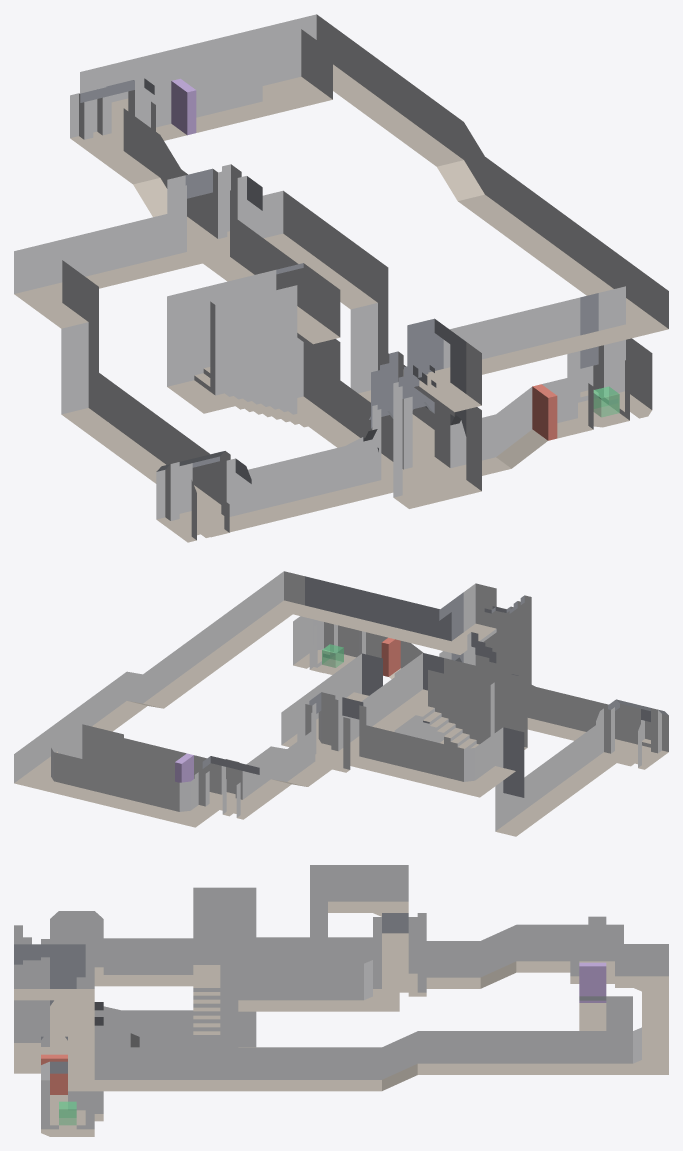
The model's file is deeplab_03.glb.
3 views of the same model, one above another, from view 1: azimuth 30°, elevation 25°; view 2: azimuth 150°, elevation 25°; view 3: azimuth 270°, elevation 25° (orthographic). The views are drawn at different scales.
Visible parts, largest first — view 1: corridor:8, room:6, corridor:6, corridor:7, room:1, corridor:2, corridor:4, room:5, corridor:1, corridor:3, room:2, entities (+14 smaller); view 2: corridor:8, corridor:6, room:6, room:1, corridor:3, corridor:7, corridor:2, room:3, room:2, room:0, corridor:4, room:5 (+11 smaller); view 3: corridor:8, corridor:6, corridor:7, room:6, corridor:3, room:1, corridor:0, room:4, entities, corridor:5, room:0, room:2 (+11 smaller).
Part boxes in pixels (left/top/right/bottom): corridor:8: left=80, top=14, right=668, bottom=381; room:6: left=167, top=263, right=340, bottom=429; corridor:6: left=14, top=211, right=219, bottom=509; corridor:7: left=247, top=190, right=434, bottom=456; room:1: left=371, top=318, right=481, bottom=508; corridor:2: left=235, top=446, right=360, bottom=526; corridor:4: left=144, top=58, right=277, bottom=140; room:5: left=246, top=29, right=332, bottom=112; corridor:1: left=482, top=375, right=593, bottom=473; corridor:3: left=102, top=112, right=212, bottom=241; room:2: left=567, top=338, right=652, bottom=427; entities: left=171, top=78, right=619, bottom=440; corridor:8: left=14, top=571, right=451, bottom=827; corridor:6: left=354, top=725, right=616, bottom=836; room:6: left=394, top=653, right=527, bottom=749; room:1: left=439, top=583, right=531, bottom=684; corridor:3: left=246, top=732, right=331, bottom=801; corridor:7: left=281, top=653, right=394, bottom=747; corridor:2: left=527, top=687, right=619, bottom=743; room:3: left=596, top=699, right=668, bottom=769; room:2: left=293, top=616, right=361, bottom=674; room:0: left=297, top=692, right=365, bottom=772; corridor:4: left=124, top=738, right=214, bottom=796; room:5: left=58, top=724, right=123, bottom=768; corridor:8: left=68, top=944, right=668, bottom=1091; corridor:6: left=103, top=865, right=408, bottom=986; corridor:7: left=121, top=960, right=399, bottom=1047; room:6: left=193, top=887, right=256, bottom=1047; corridor:3: left=426, top=924, right=570, bottom=988; room:1: left=14, top=925, right=94, bottom=1073; corridor:0: left=256, top=937, right=372, bottom=963; room:4: left=570, top=916, right=623, bottom=987; entities: left=41, top=962, right=606, bottom=1125; corridor:5: left=121, top=1010, right=193, bottom=1036; room:0: left=373, top=913, right=426, bottom=996; room:2: left=41, top=1061, right=94, bottom=1136.
Bounding box in the file's own units: 54 × 16.5 × 73.
